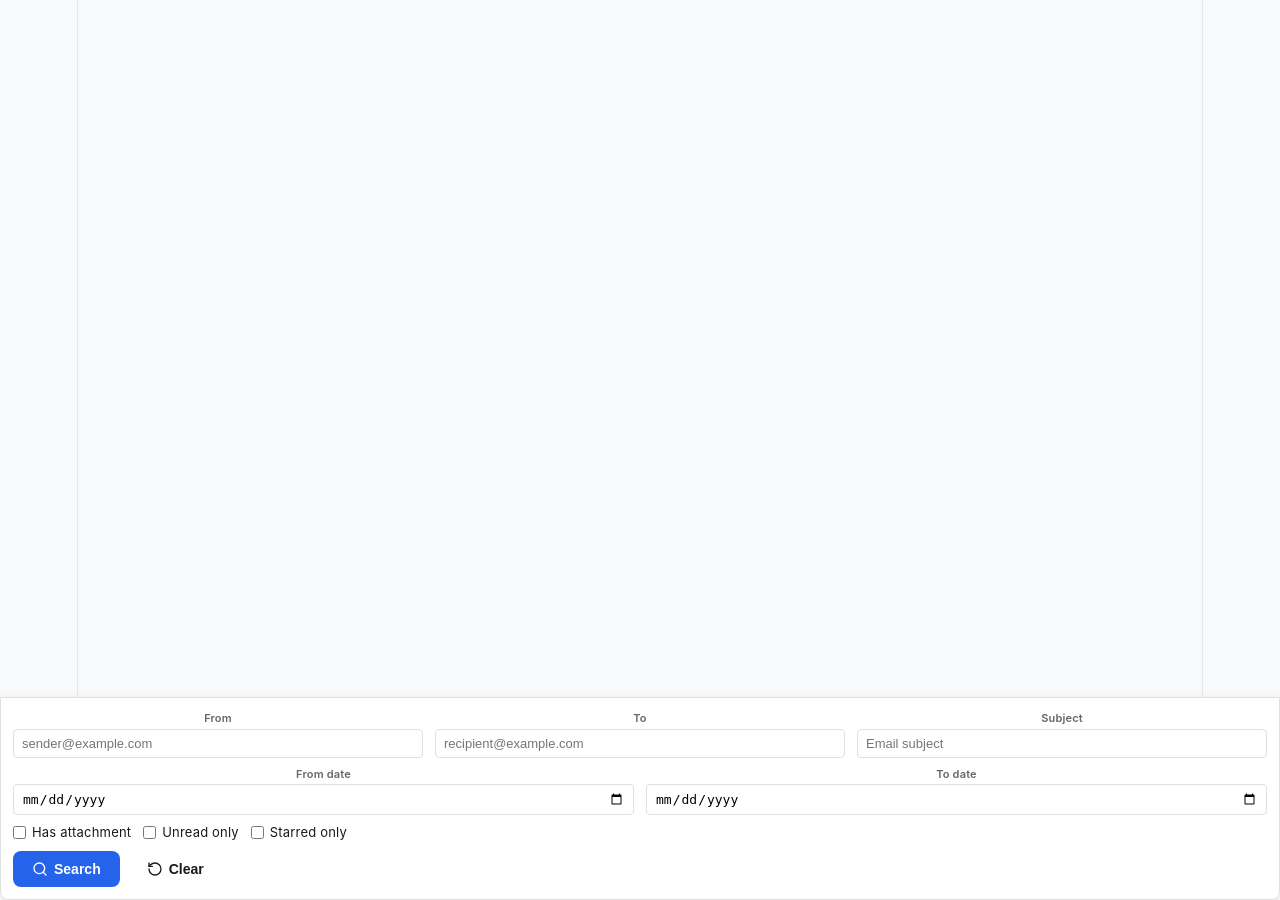
Test: AdvancedSearch › clear button resets all fields and clears search
(page scrolled)
Added: Fill in some filters first
In the field with test id "filter-from": (218, 743) [13,728,423,758], type "bob@test.com"
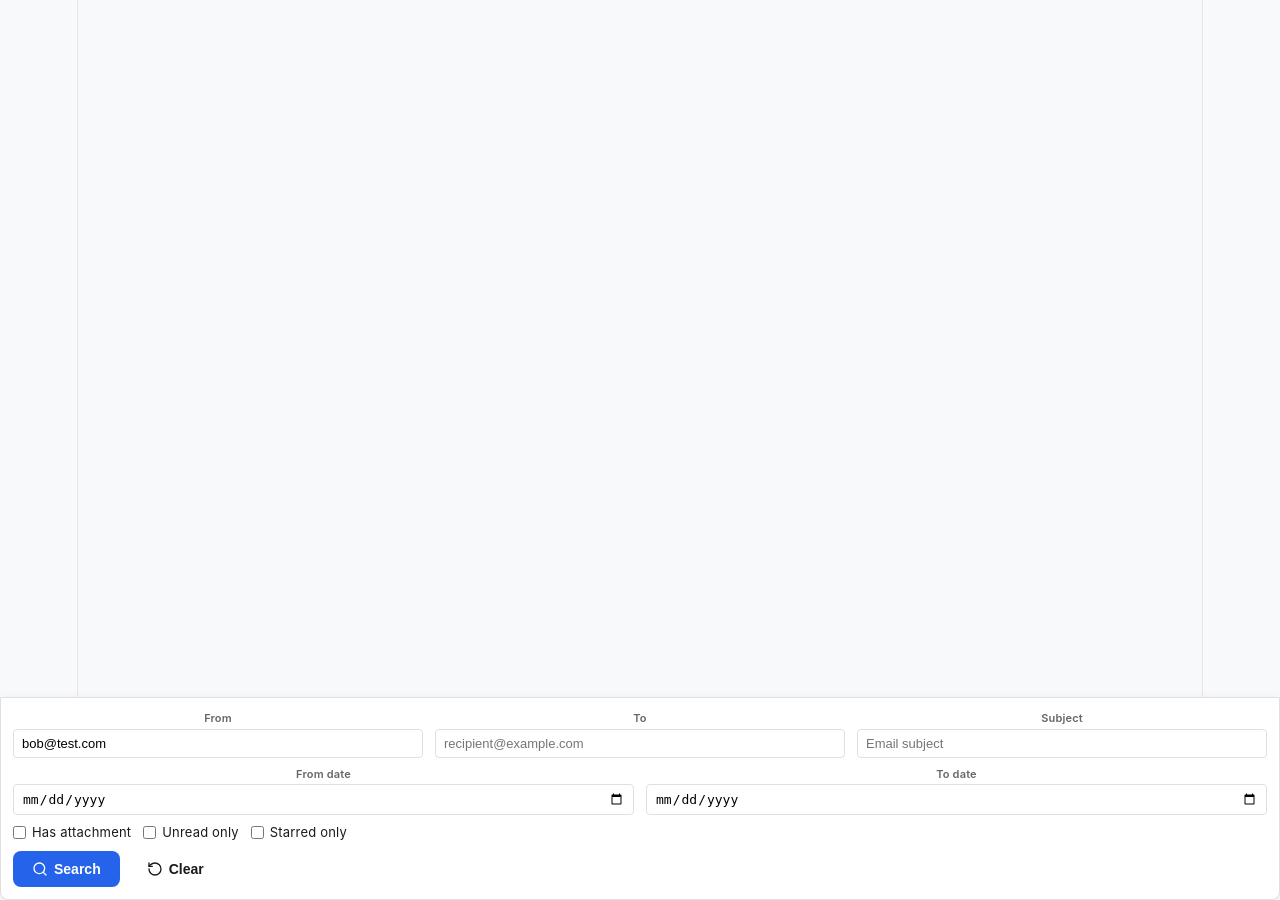
In the field with test id "filter-subject": (1062, 743) [857,728,1267,758], type "Important"
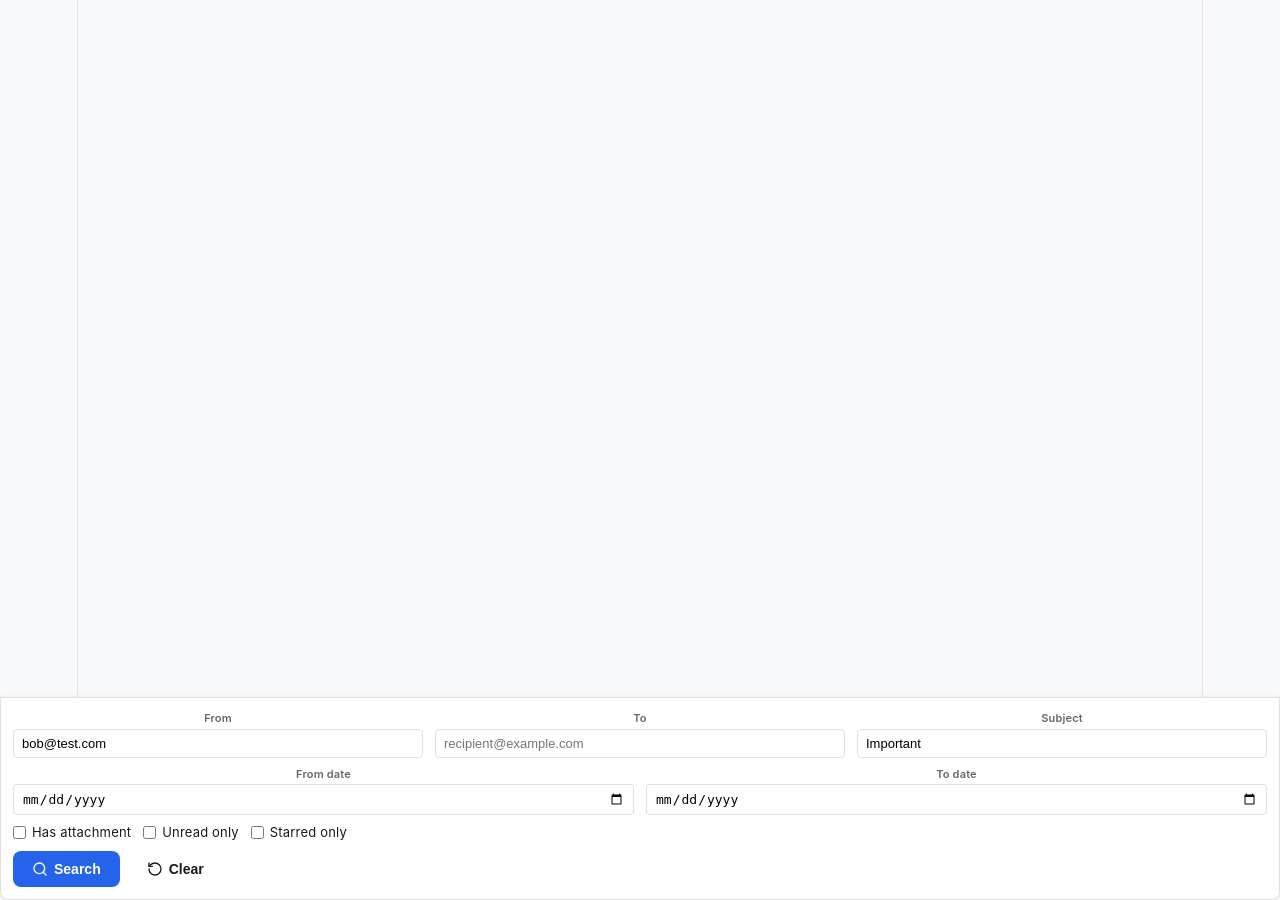
Click the button with test id "advanced-search-clear": (175, 868) [128,850,223,886]
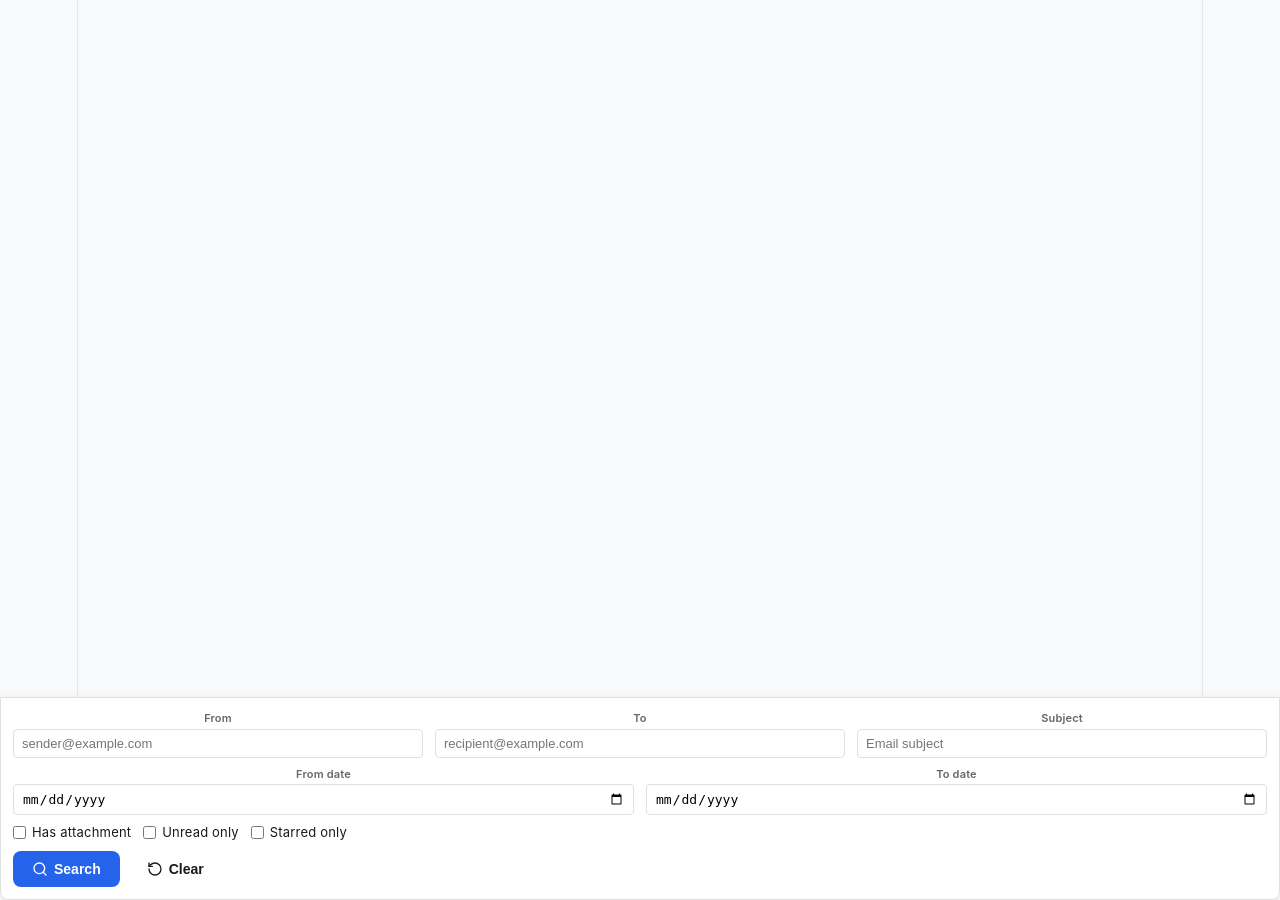
Result: the field with test id "filter-from" is empty at [13,728,423,758]
Result: the field with test id "filter-subject" is empty at [857,728,1267,758]
